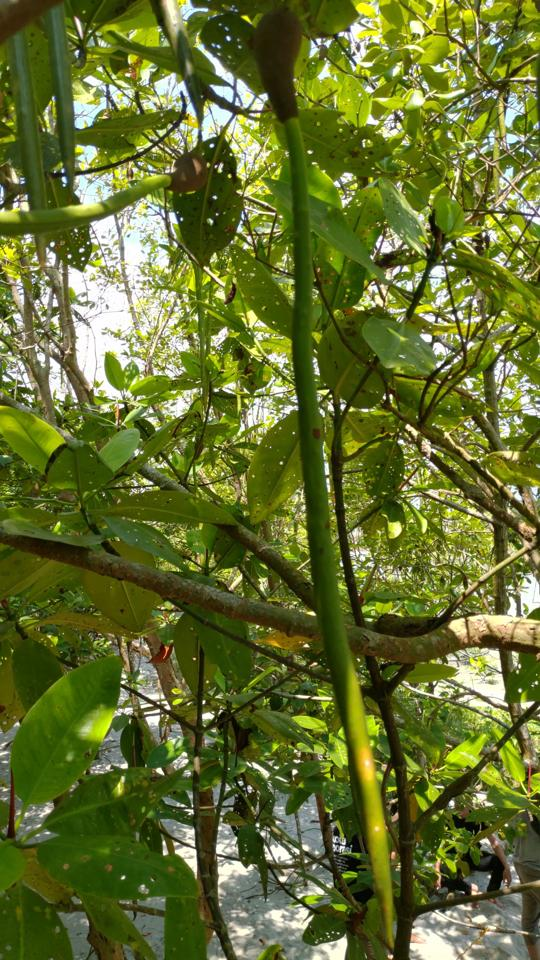mentah: (227, 1, 424, 951)
